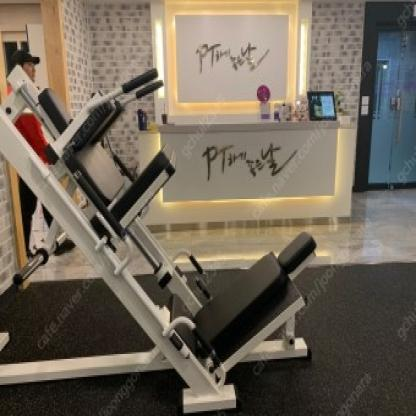leg press: (0, 39, 322, 416)
